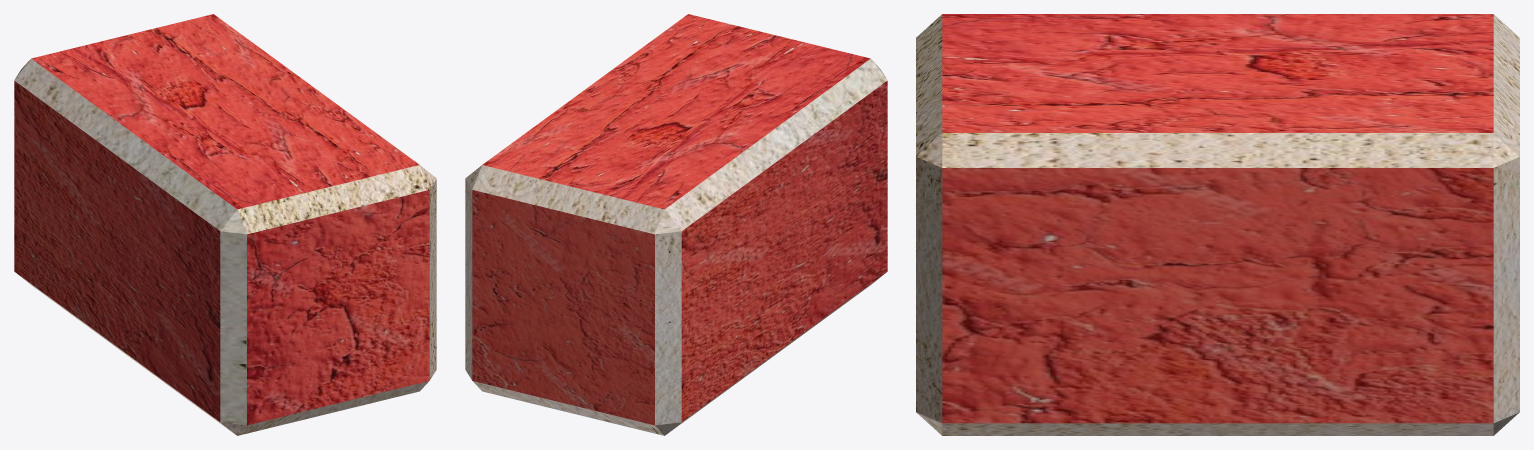
The model's file is Brick.glb.
The picture shows the model from 3 angles, left to right: view 1: azimuth 30°, elevation 25°; view 2: azimuth 150°, elevation 25°; view 3: azimuth 270°, elevation 25°; orthographic projection. The views are drawn at different scales.
Visible parts, largest first — view 1: Cube; view 2: Cube; view 3: Cube.
Part boxes in pixels (x1=…): Cube: x1=14, y1=14, x2=436, y2=435; Cube: x1=465, y1=14, x2=887, y2=435; Cube: x1=916, y1=14, x2=1519, y2=435.
Size of the model in its own units: 2 by 2 by 3.61.
Materials: 2 (2 with a texture image).
